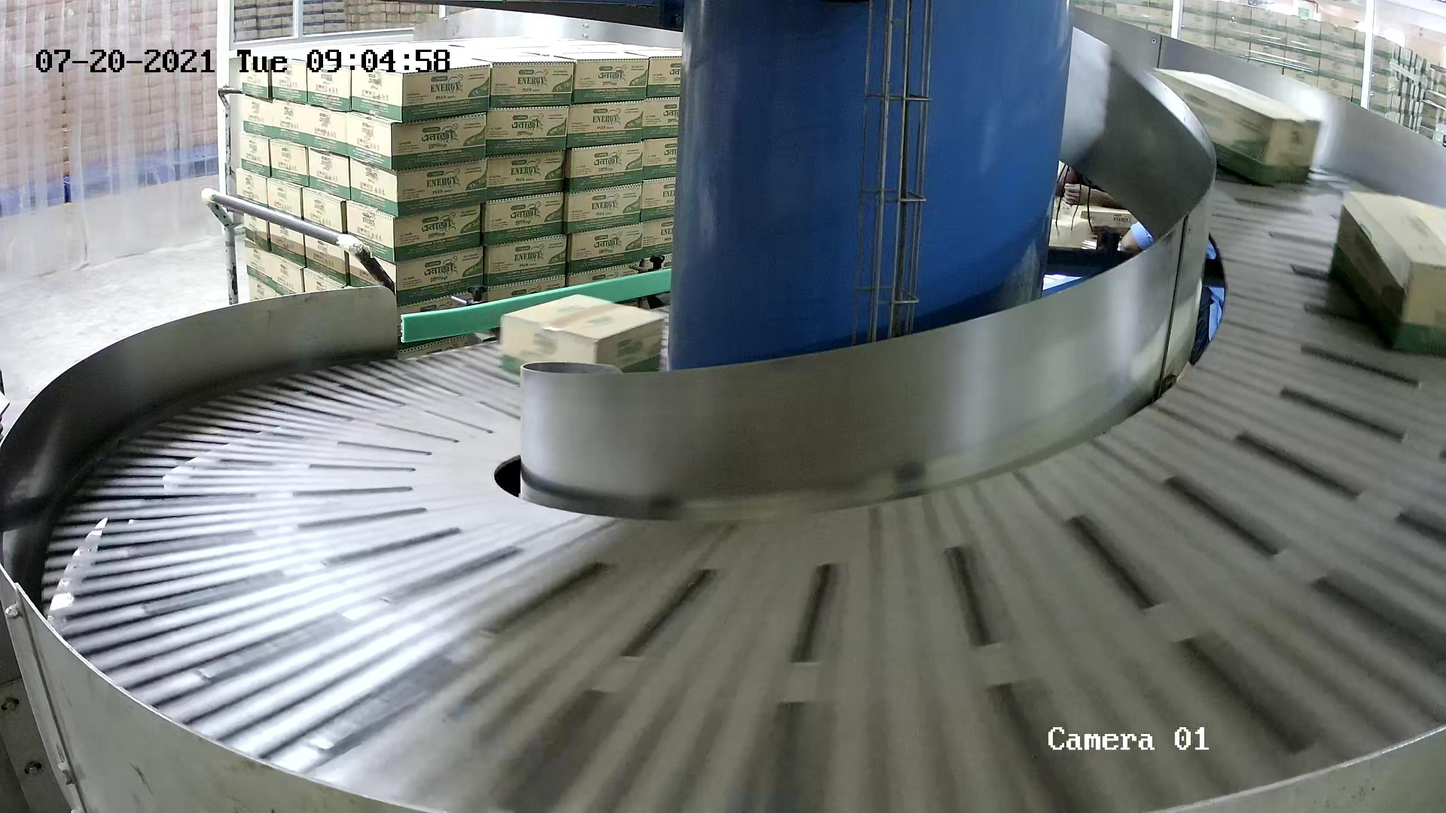Box: (1148, 68, 1322, 187), (1327, 192, 1446, 359), (501, 293, 666, 400)
